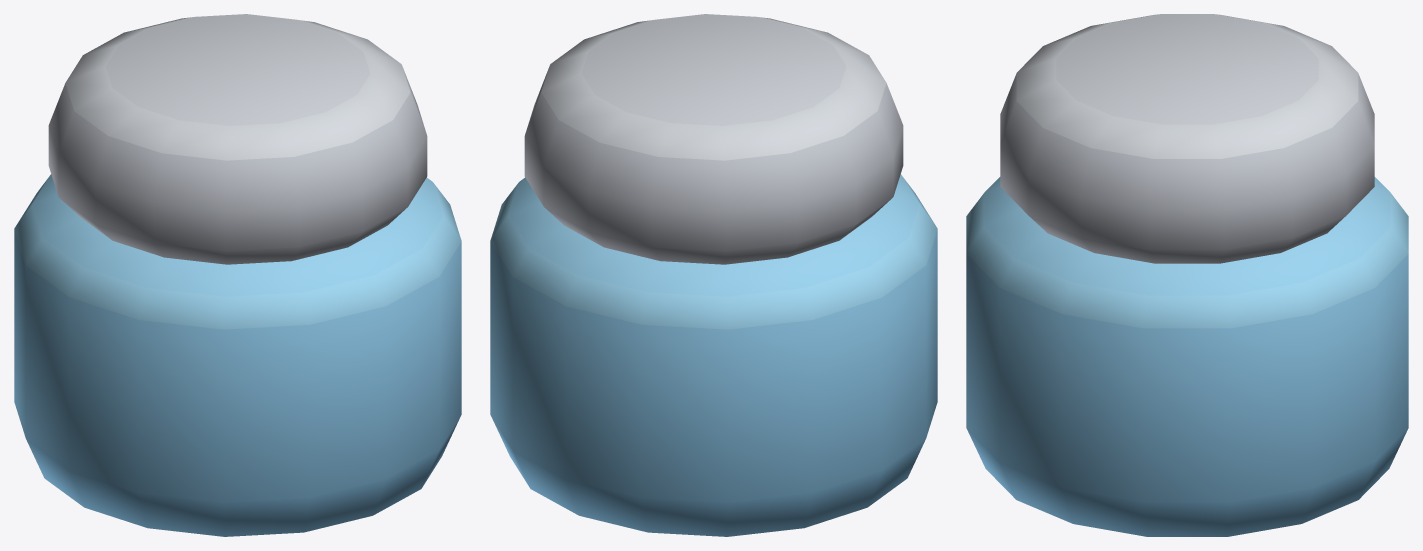
File: container_bathroom_C_blue.fbx
The picture shows the model from 3 angles, left to right: view 1: azimuth 30°, elevation 25°; view 2: azimuth 150°, elevation 25°; view 3: azimuth 270°, elevation 25°; orthographic projection.
Parts seen in each view (by area): view 1: container_bathroom_C_blue; view 2: container_bathroom_C_blue; view 3: container_bathroom_C_blue.
Part boxes in pixels (left/top/right/bottom): container_bathroom_C_blue: left=14, top=14, right=461, bottom=536; container_bathroom_C_blue: left=490, top=14, right=937, bottom=536; container_bathroom_C_blue: left=966, top=14, right=1408, bottom=536.
Size of the model in its own units: 0.312 by 0.3119 by 0.3126.
